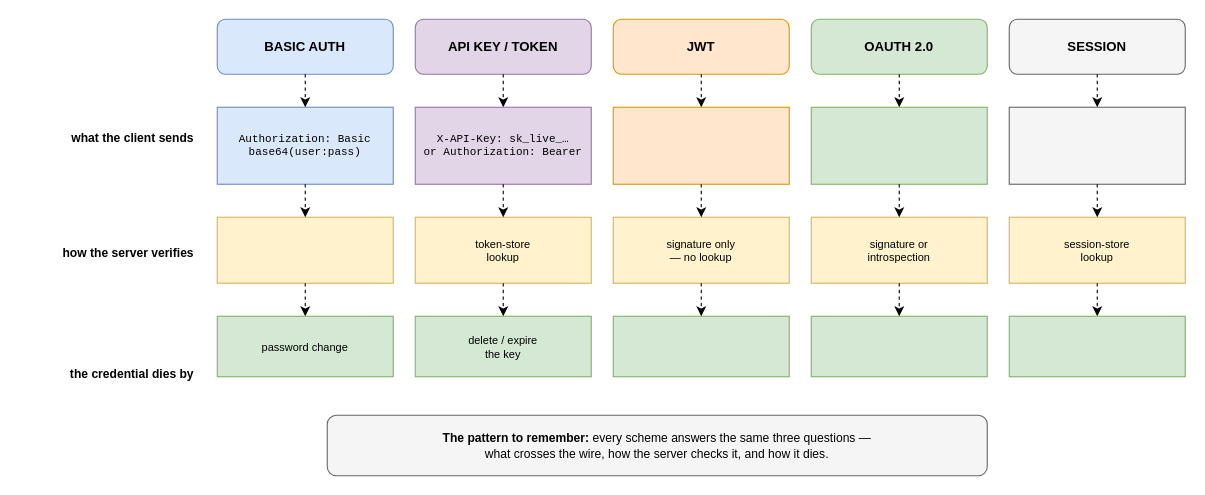
Image size: 1205x495. Some labels were removed from this diagram. Each missing label, with the centre of its shape:
"Authorization: Bearer access_token (+ refresh flow)" goes at (x=898, y=145).
"Authorization: Bearer eyJhbGciOi… (self-contained)" goes at (x=700, y=145).
"Cookie: session=aX92… (auto-attached by the browser)" goes at (x=1096, y=145).
"exp claim (or denylist)" goes at (x=700, y=346).
"logout / TTL — instant" goes at (x=1096, y=346).
"revocation + exp" goes at (x=898, y=346).
"verify password hash — every request" goes at (x=304, y=249).
